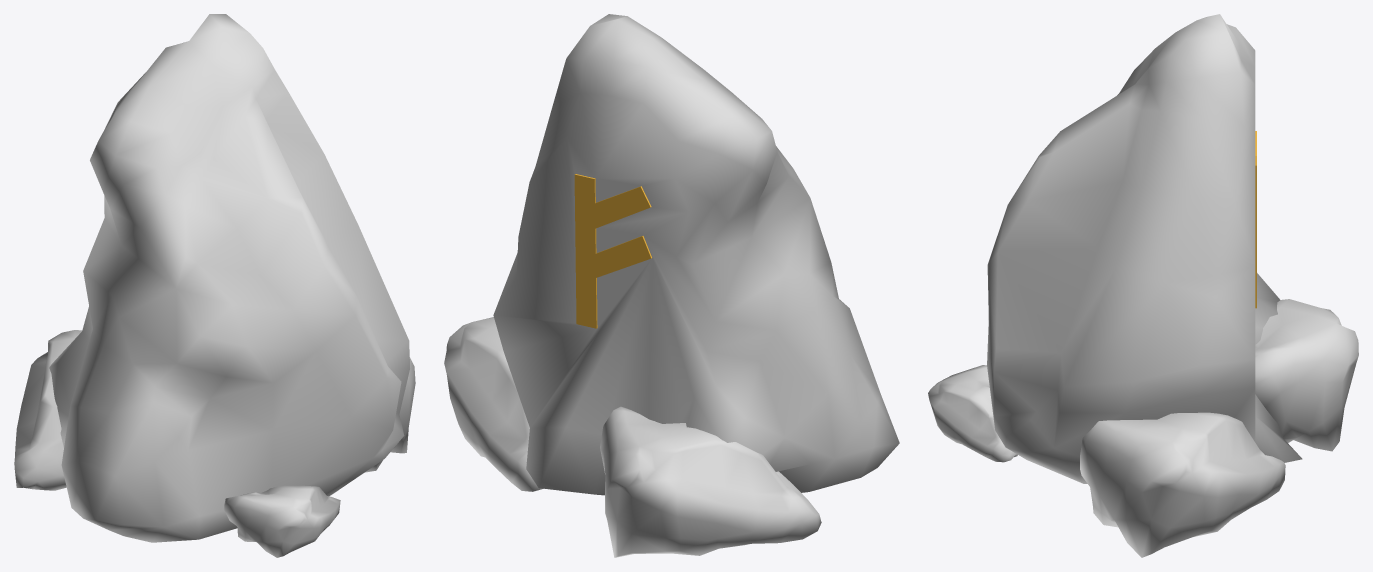
File: Fehu.fbx
3 views of the same model, side by side, from view 1: azimuth 30°, elevation 25°; view 2: azimuth 150°, elevation 25°; view 3: azimuth 270°, elevation 25° (orthographic). The views are drawn at different scales.
Visible parts, largest first — view 1: uploads_files_4276670_stone_small; view 2: uploads_files_4276670_stone_small, Fehu; view 3: uploads_files_4276670_stone_small.
Part boxes in pixels (x1,y1,x2,y2): uploads_files_4276670_stone_small: (14, 14, 415, 557); uploads_files_4276670_stone_small: (444, 14, 899, 557); Fehu: (574, 174, 651, 328); uploads_files_4276670_stone_small: (928, 14, 1358, 557).
Size of the model in its own units: 155 by 181 by 152.
